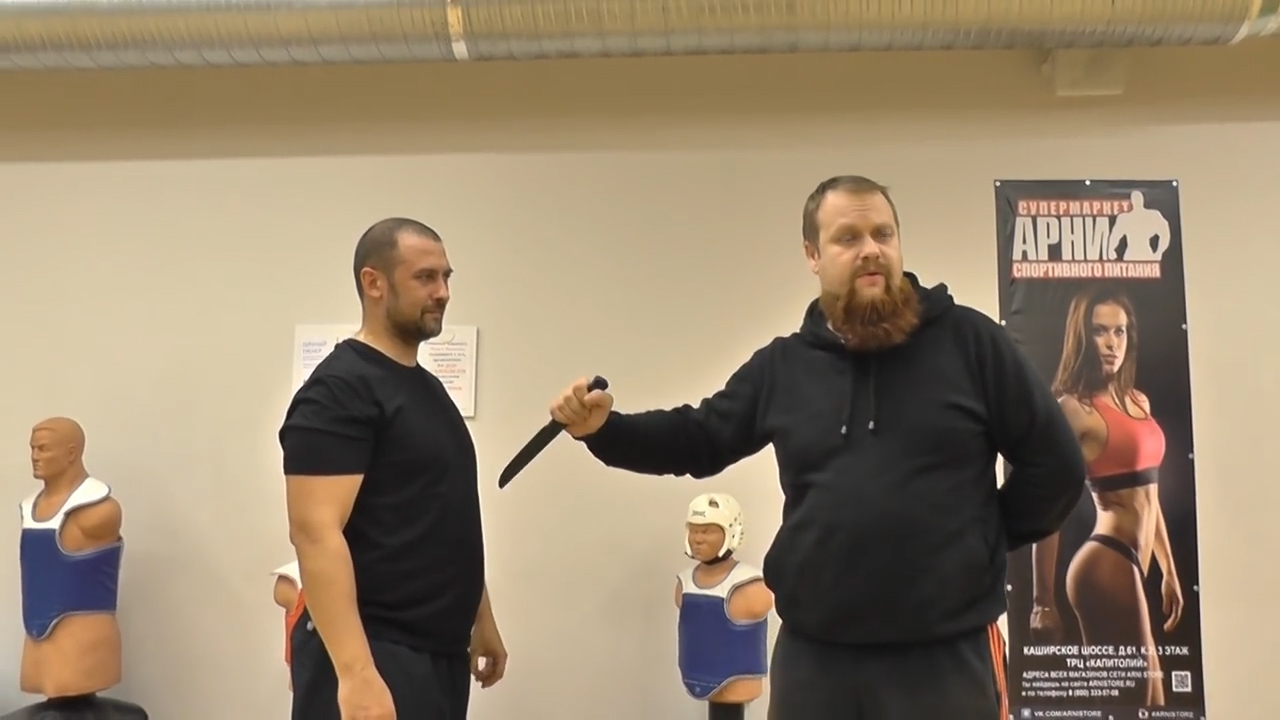knife: (489, 371, 612, 495)
